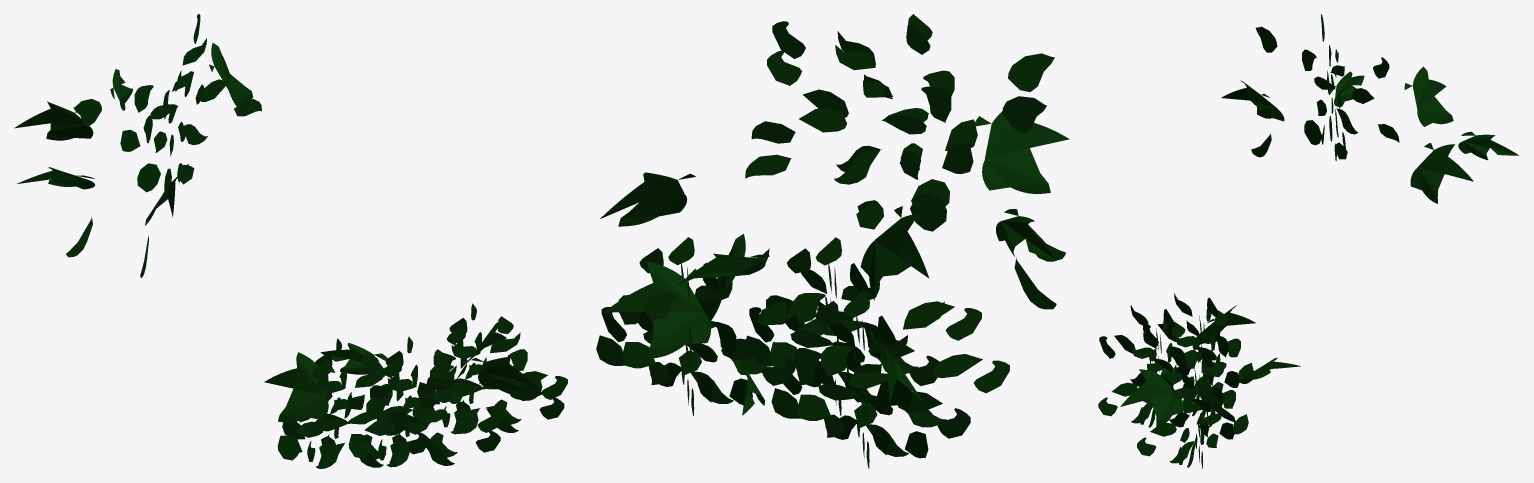
Rendered from 01_openskp_material_63.002.obj.
The picture shows the model from 3 angles, left to right: view 1: azimuth 30°, elevation 25°; view 2: azimuth 150°, elevation 25°; view 3: azimuth 270°, elevation 25°; orthographic projection. The views are drawn at different scales.
Parts seen in each view (by area): view 1: 01_openskp_material_63.002; view 2: 01_openskp_material_63.002; view 3: 01_openskp_material_63.002.
Part boxes in pixels (x1=…): 01_openskp_material_63.002: x1=14, y1=14, x2=567, y2=468; 01_openskp_material_63.002: x1=596, y1=14, x2=1069, y2=468; 01_openskp_material_63.002: x1=1098, y1=14, x2=1518, y2=468.
Size of the model in its own units: 21.78 by 18.7 by 20.82.
